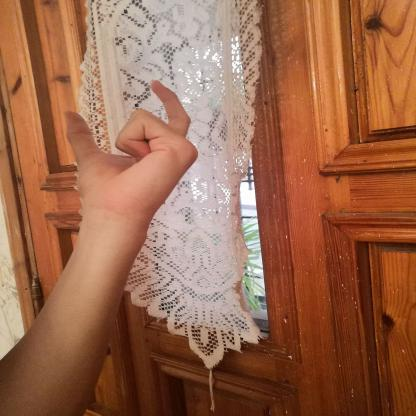NOON: (48, 69, 213, 228)
